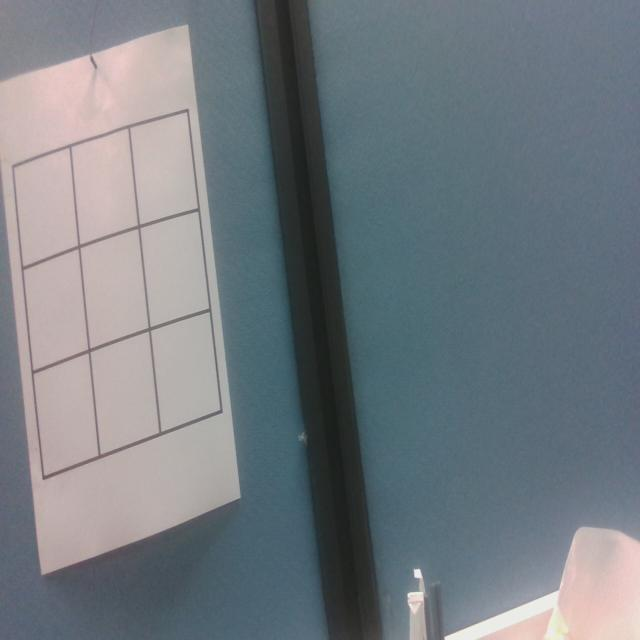null: (152, 311, 222, 437), (91, 333, 160, 459), (82, 228, 150, 349), (32, 354, 97, 479), (143, 210, 211, 329), (22, 249, 88, 370), (14, 149, 78, 267), (133, 112, 199, 225), (73, 129, 138, 242)
table: (2, 103, 231, 486)
